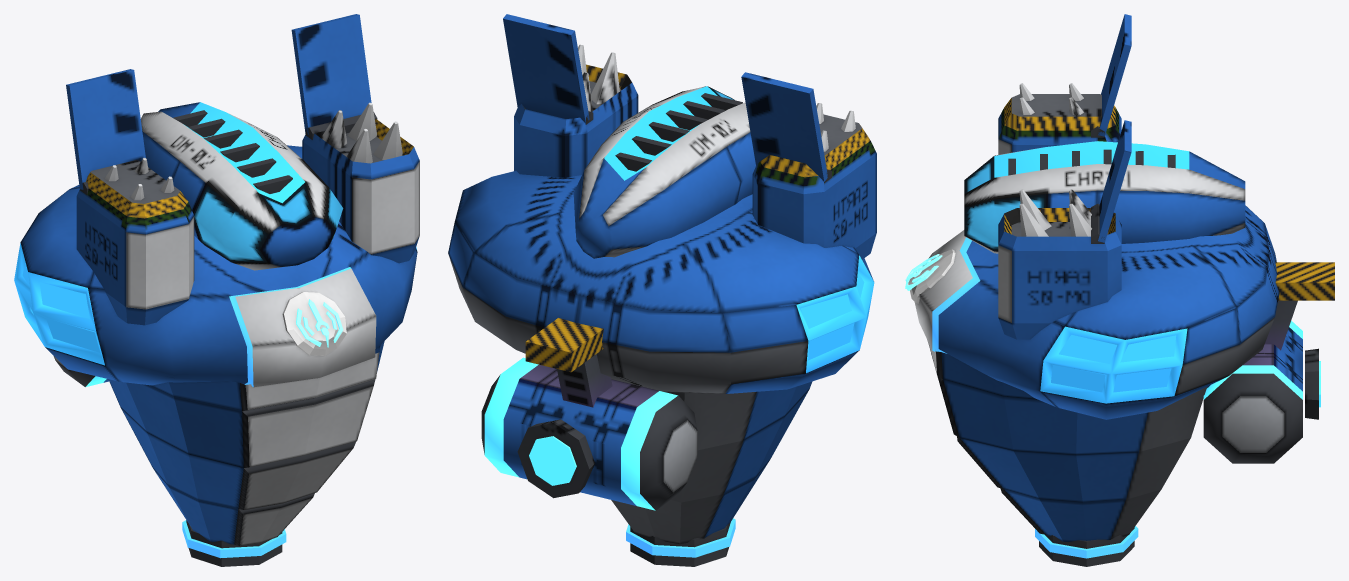
File: DrunkMissileTorsoX.glb
The picture shows the model from 3 angles, left to right: view 1: azimuth 30°, elevation 25°; view 2: azimuth 150°, elevation 25°; view 3: azimuth 270°, elevation 25°; orthographic projection. The views are drawn at different scales.
Visible parts, largest first — view 1: DrunkMissileTorsoX_Body, DrunkMissileTorsoX_Head; view 2: DrunkMissileTorsoX_Body, DrunkMissileTorsoX_Head; view 3: DrunkMissileTorsoX_Body, DrunkMissileTorsoX_Head.
Boxes of the visible parts, left/top/right/bottom form: DrunkMissileTorsoX_Body: left=14, top=14, right=419, bottom=566; DrunkMissileTorsoX_Head: left=140, top=102, right=343, bottom=270; DrunkMissileTorsoX_Body: left=448, top=14, right=876, bottom=566; DrunkMissileTorsoX_Head: left=573, top=86, right=755, bottom=258; DrunkMissileTorsoX_Body: left=905, top=14, right=1334, bottom=566; DrunkMissileTorsoX_Head: left=964, top=141, right=1245, bottom=253.
Size of the model in its own units: 10.54 by 12.86 by 10.79.
13 materials, 9 textured.
